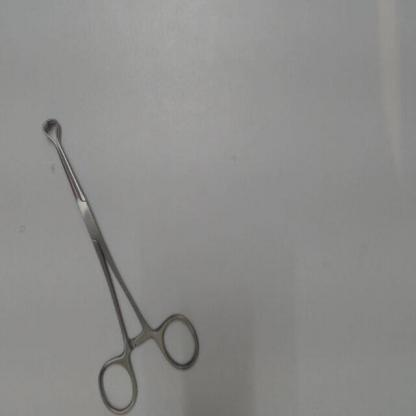Babcock Tissue Forceps: (37, 106, 208, 414)
